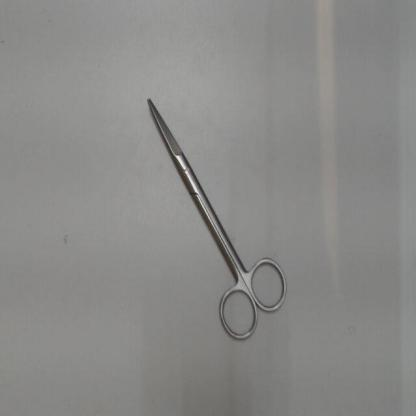Curved Mayo Scissors: (138, 84, 294, 350)
